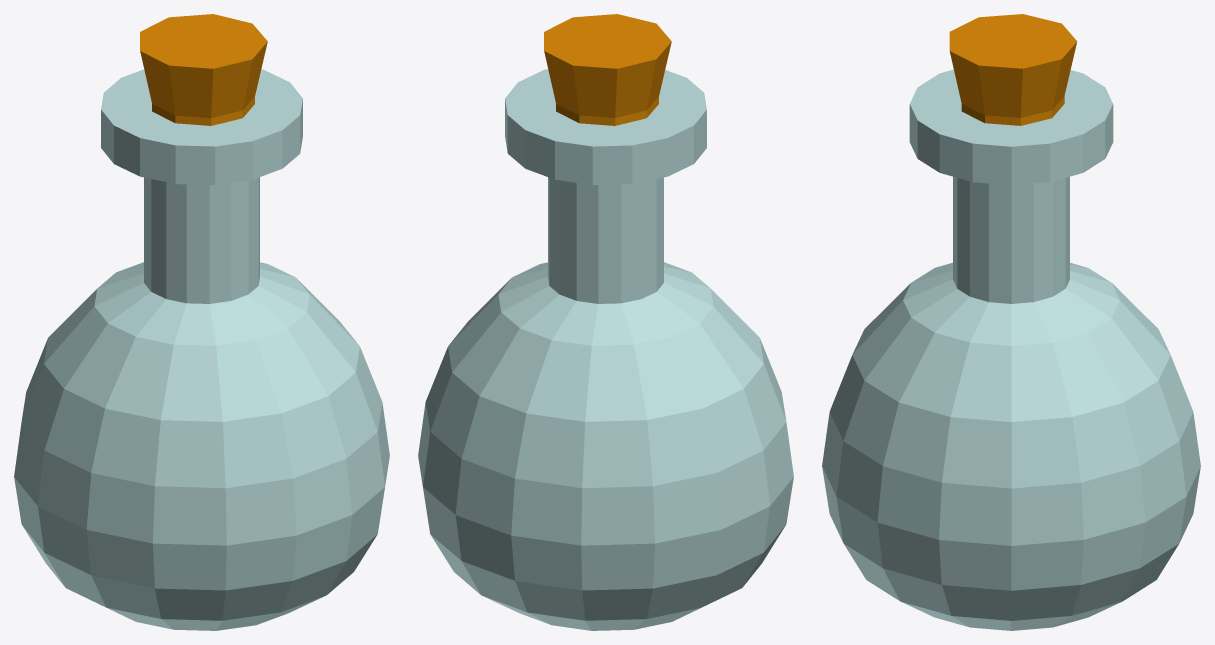
The model's file is Potion Mesh.fbx.
3 renders of one model, left to right at view 1: azimuth 30°, elevation 25°; view 2: azimuth 150°, elevation 25°; view 3: azimuth 270°, elevation 25°, orthographic.
Parts seen in each view (by area): view 1: Potion; view 2: Potion; view 3: Potion.
Part boxes in pixels (x1,y1,x2,y2): Potion: [14, 14, 389, 630]; Potion: [418, 14, 793, 630]; Potion: [822, 14, 1200, 630].
Size of the model in its own units: 144 by 227 by 144.
